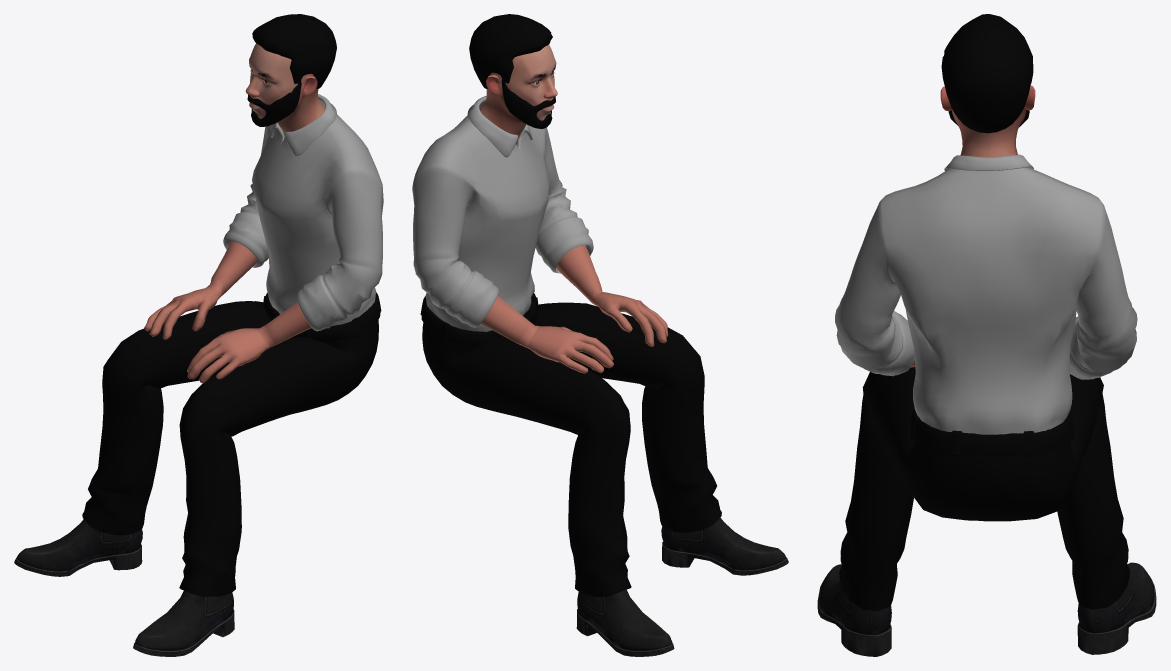
File: ManSittingOutside.gltf
3 views of the same model, side by side, from view 1: azimuth 30°, elevation 25°; view 2: azimuth 150°, elevation 25°; view 3: azimuth 270°, elevation 25° (orthographic). The views are drawn at different scales.
Visible parts, largest first — view 1: Object_21, Object_25, Object_23, Object_19, Object_15, Object_11, Object_17; view 2: Object_21, Object_25, Object_23, Object_19, Object_15, Object_11, Object_17; view 3: Object_25, Object_21, Object_15, Object_23, Object_11.
Part boxes in pixels (x1,y1,x2,y2): Object_21: (82, 292, 381, 596); Object_25: (223, 94, 383, 331); Object_23: (14, 519, 234, 656); Object_19: (144, 240, 311, 383); Object_15: (252, 14, 336, 88); Object_11: (245, 43, 324, 133); Object_17: (247, 80, 301, 126); Object_21: (420, 293, 721, 597); Object_25: (412, 96, 593, 331); Object_23: (576, 517, 788, 656); Object_19: (481, 245, 668, 373); Object_15: (469, 14, 552, 88); Object_11: (479, 44, 557, 144); Object_17: (501, 79, 555, 128); Object_25: (835, 154, 1137, 434); Object_21: (839, 367, 1129, 611); Object_15: (941, 14, 1033, 133); Object_23: (817, 562, 1156, 656); Object_11: (940, 85, 1035, 157).
Size of the model in its own units: 8.21 by 14.57 by 6.41.
Materials: 8 (8 with a texture image).
